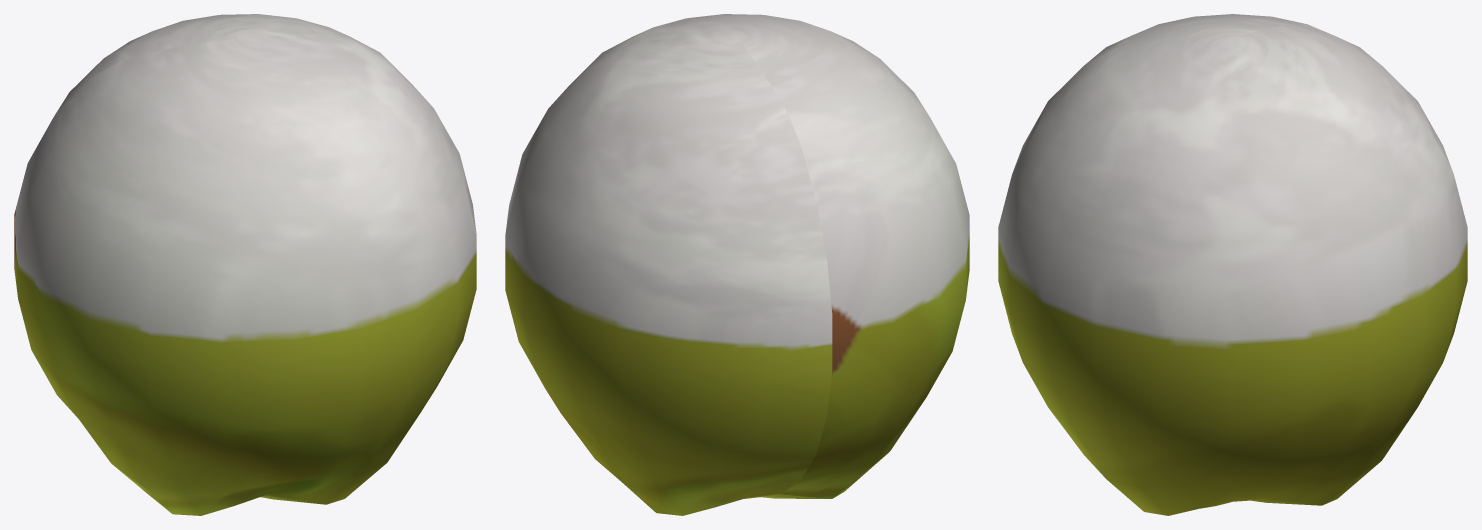
File: Coconut_A.fbx
3 renders of one model, left to right at view 1: azimuth 30°, elevation 25°; view 2: azimuth 150°, elevation 25°; view 3: azimuth 270°, elevation 25°, orthographic.
Visible parts, largest first — view 1: Coconut_A; view 2: Coconut_A; view 3: Coconut_A.
Boxes of the visible parts, x1,y1,x2,y2 form: Coconut_A: (14,14,476,515); Coconut_A: (505,14,969,515); Coconut_A: (998,14,1467,515).
Bounding box in the file's own units: 25.37 × 27.04 × 25.37.
